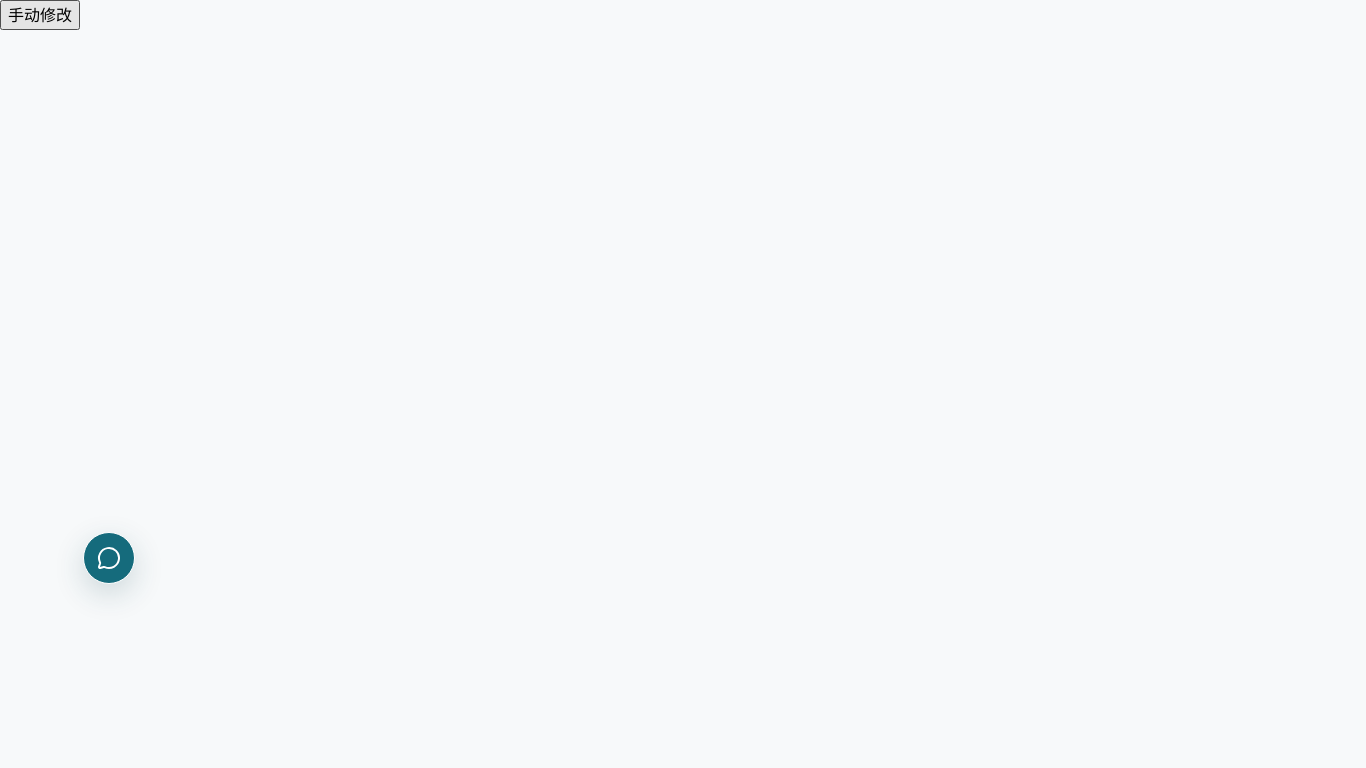
business chat execution › does not send destructive execution until the user confirms
Type keys "{Alt>}/{/Alt}"
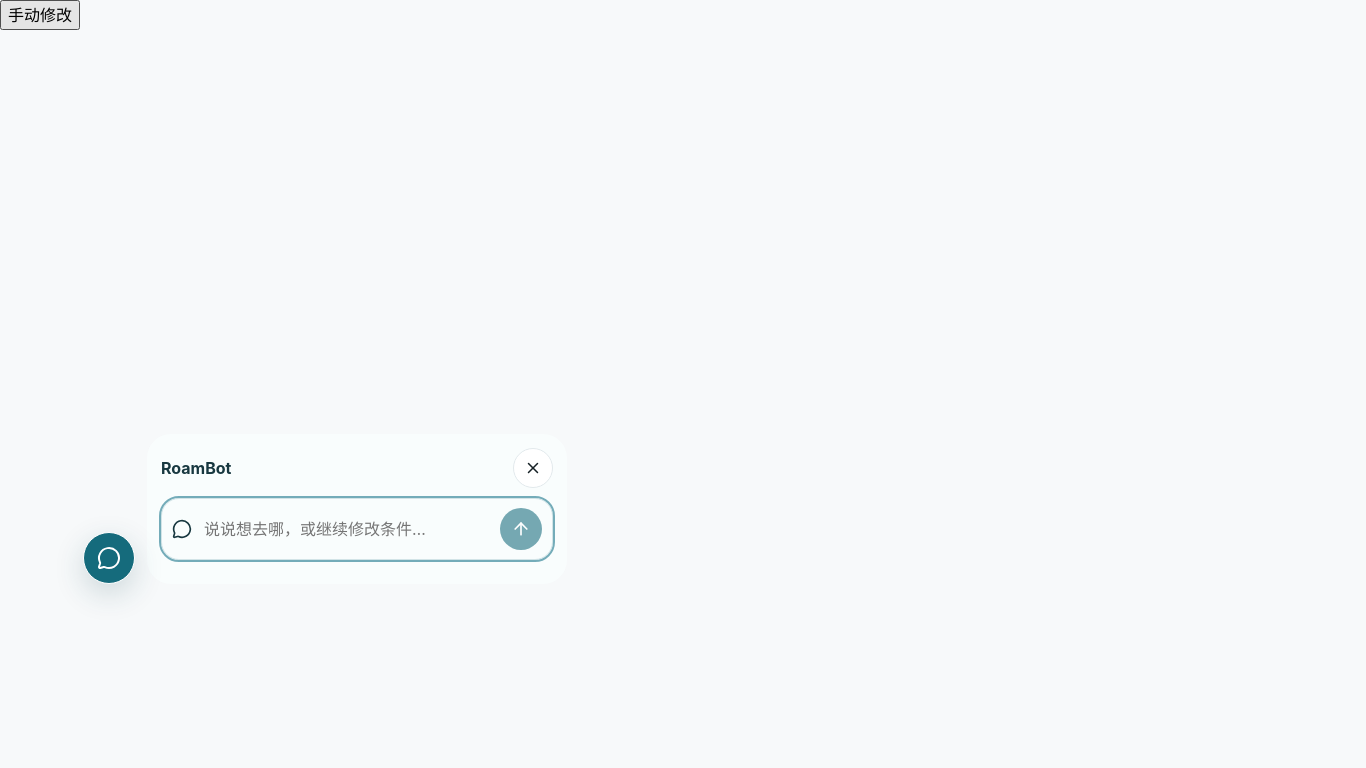
Type "删除这条历史" into the text box named "继续补充条件". click: (346, 529)
box: [204, 507, 488, 551]
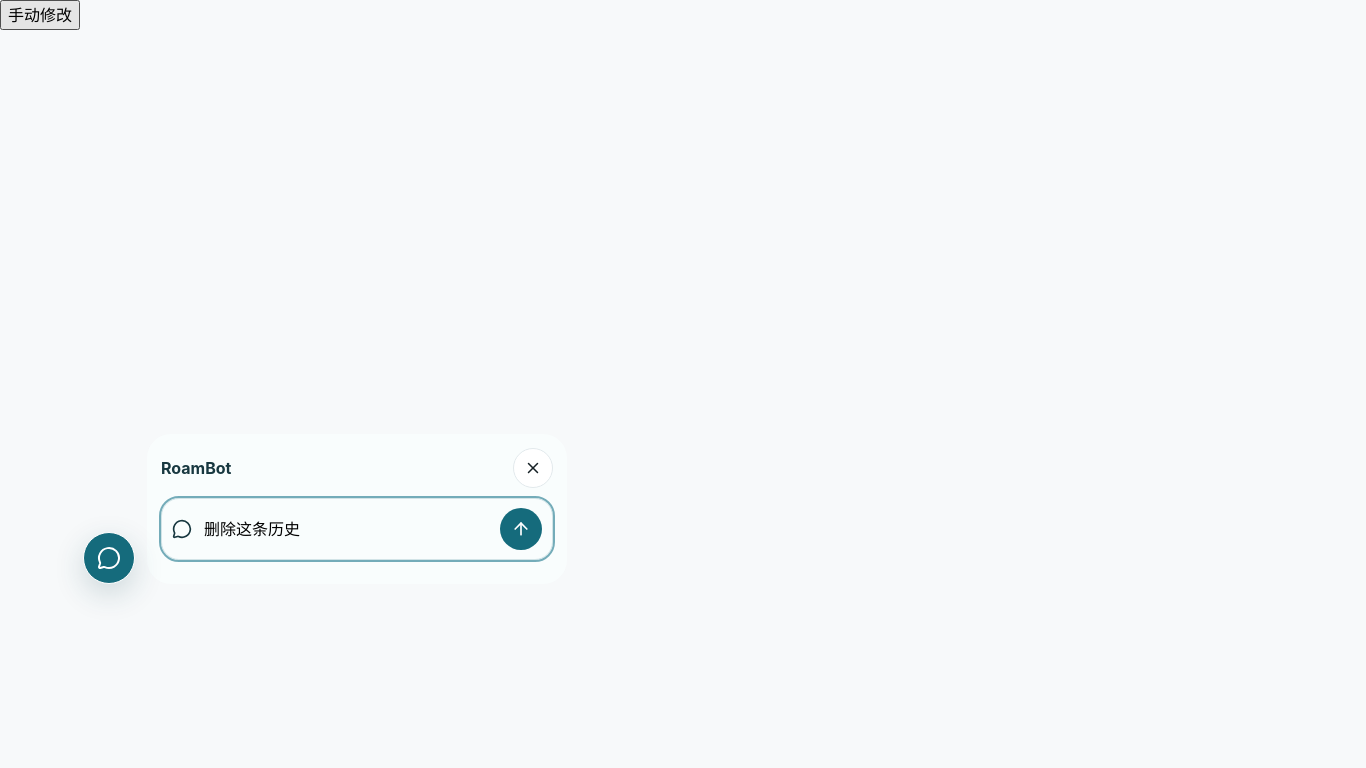
Click the button named "发送消息". click: (521, 529)
box: [500, 508, 542, 550]
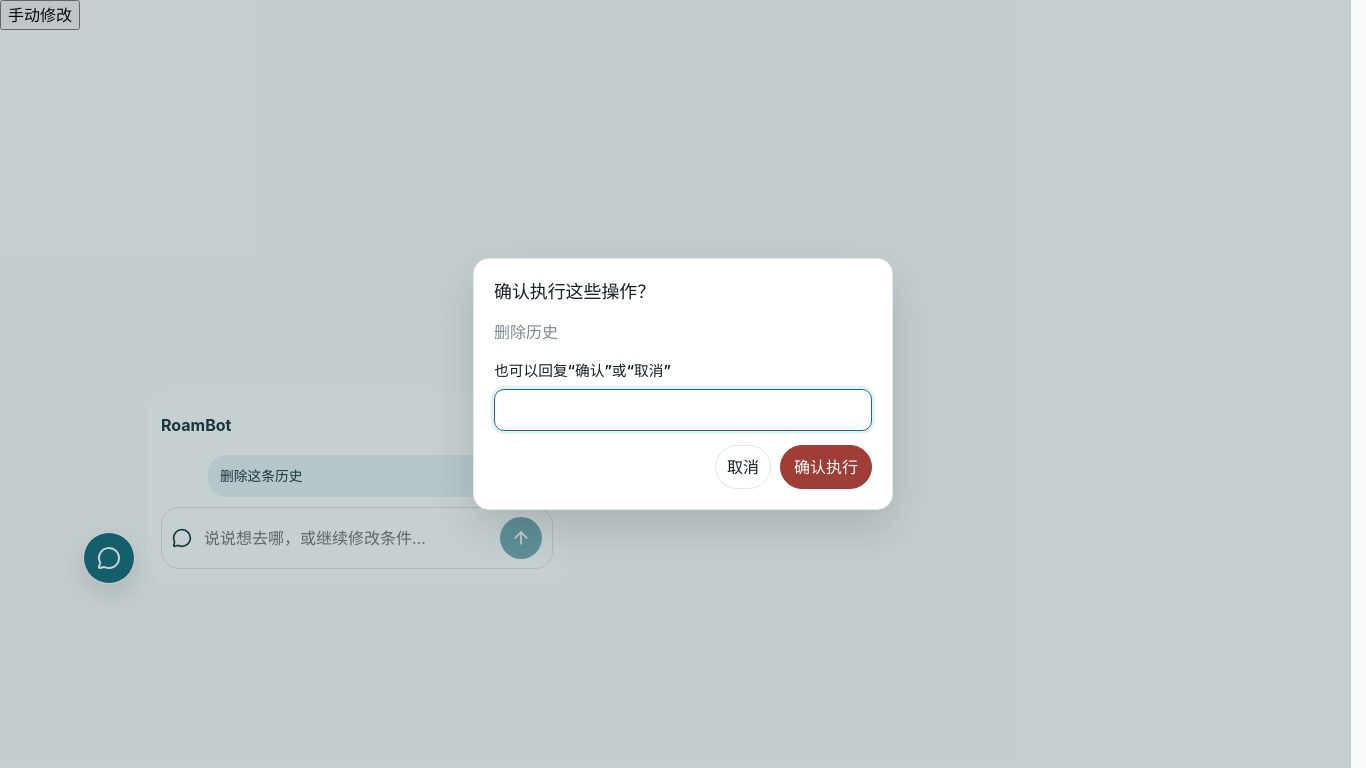
Expected: the dialog is shown, [473, 258, 893, 510]
Click the button "确认执行". click: (826, 467)
box: [780, 445, 872, 489]
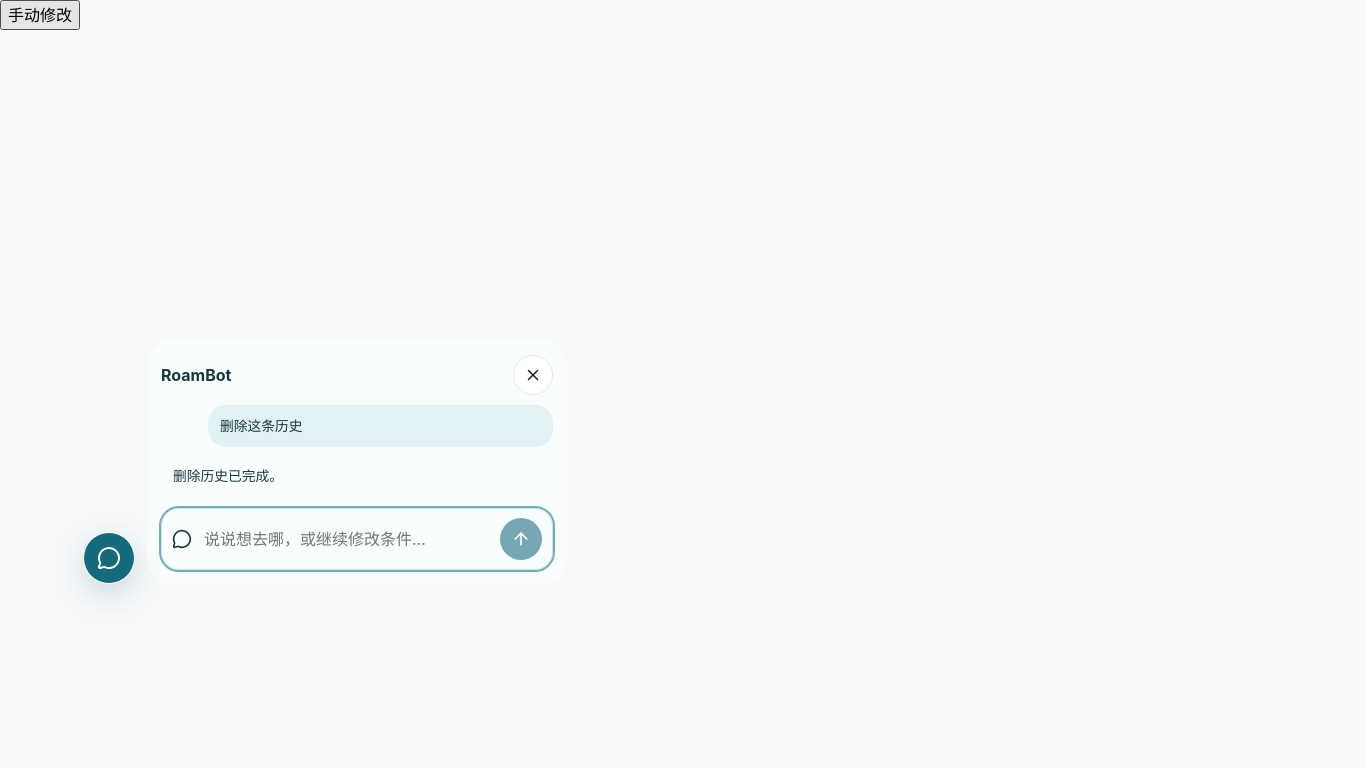
Expected: the text "删除历史已完成。" is shown, [173, 468, 283, 484]
